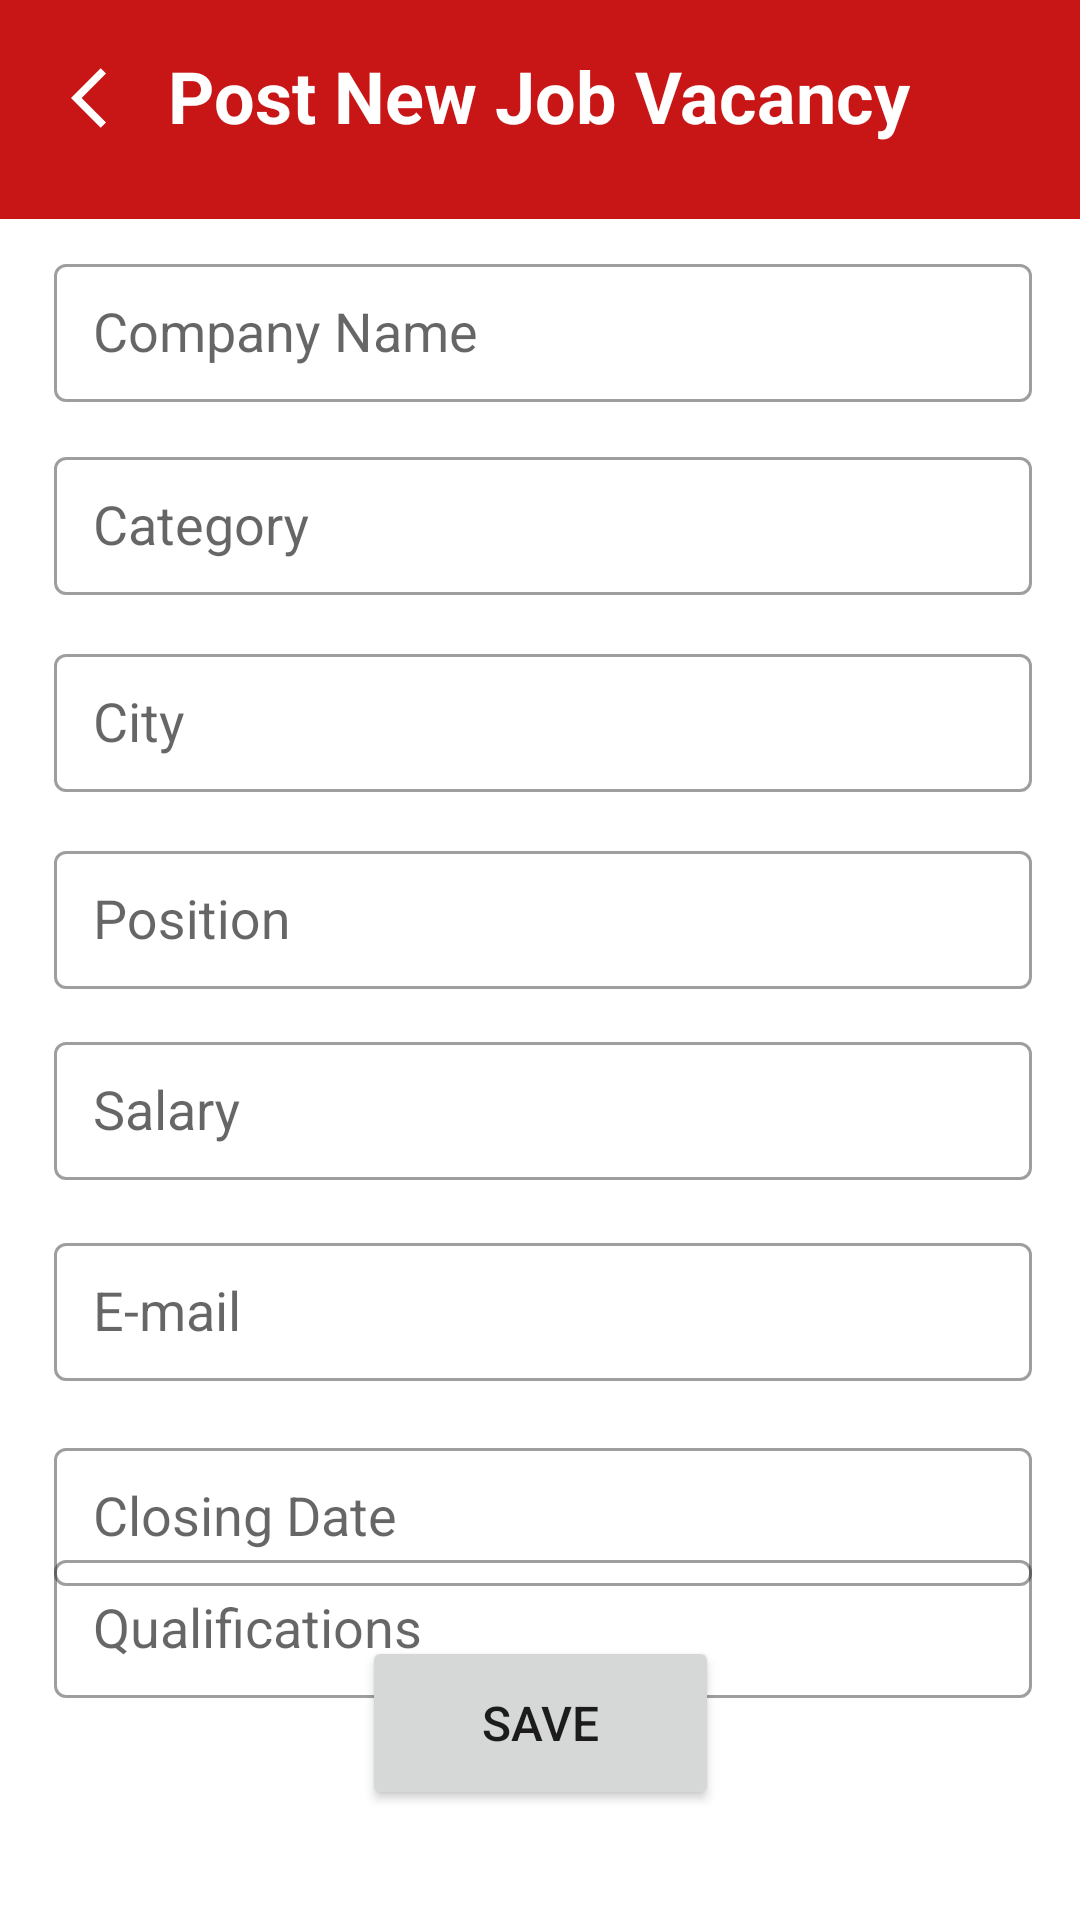

Named icons in this screenshot (1080x1920) and their bounding boxes, BBox(x1, y1, x2, y2):
arrow back: BBox(71, 68, 106, 128)
